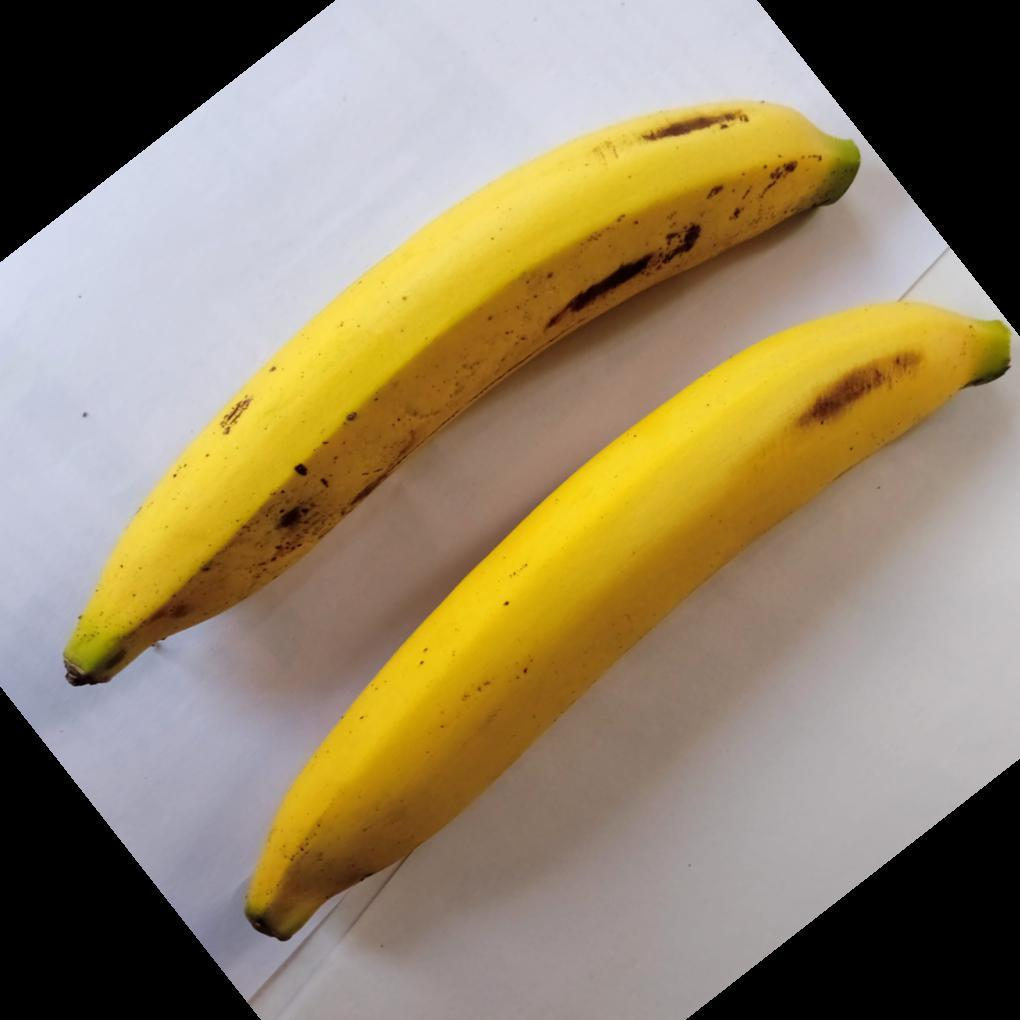Banana Ripe: (238, 256, 1020, 1014), (41, 6, 884, 692)
